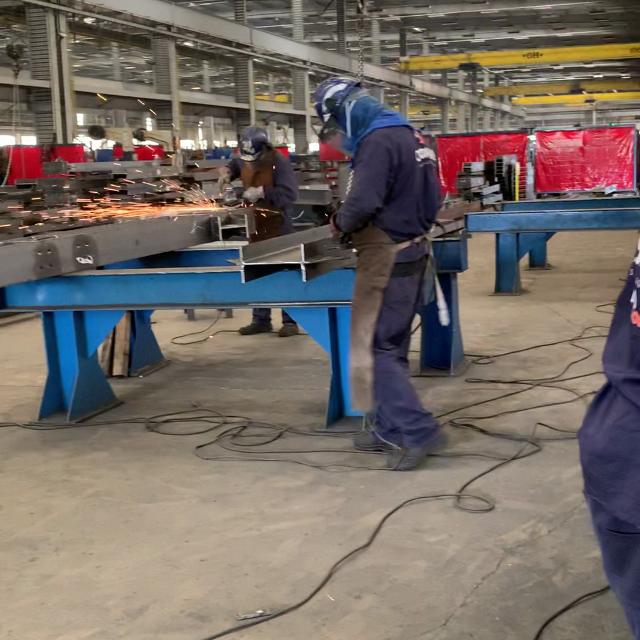face-shield: (319, 86, 361, 157)
helmet: (315, 77, 359, 107)
person: (315, 76, 444, 474)
safety-shoe: (387, 429, 448, 470), (353, 426, 403, 455)
